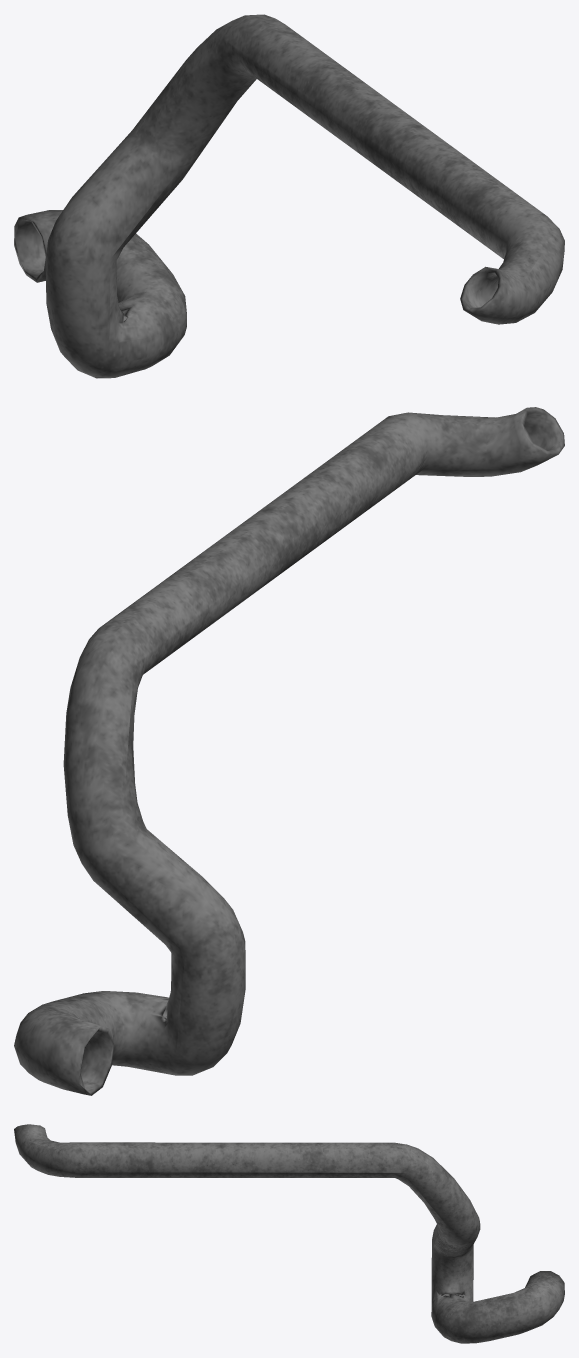
Rendered from turboSmall-intercooler-tube.fbx.
3 views of the same model, one above another, from view 1: azimuth 30°, elevation 25°; view 2: azimuth 150°, elevation 25°; view 3: azimuth 270°, elevation 25° (orthographic). The views are drawn at different scales.
Visible parts, largest first — view 1: turboSmall-intercooler-tube-main_Baked; view 2: turboSmall-intercooler-tube-main_Baked; view 3: turboSmall-intercooler-tube-main_Baked.
Boxes of the visible parts, box(x1,y1,x2,y2) form: turboSmall-intercooler-tube-main_Baked: box(14, 14, 564, 378); turboSmall-intercooler-tube-main_Baked: box(14, 407, 564, 1095); turboSmall-intercooler-tube-main_Baked: box(14, 1124, 564, 1343).
Size of the model in its own units: 13.78 by 25.34 by 58.75.
1 material, 1 textured.
